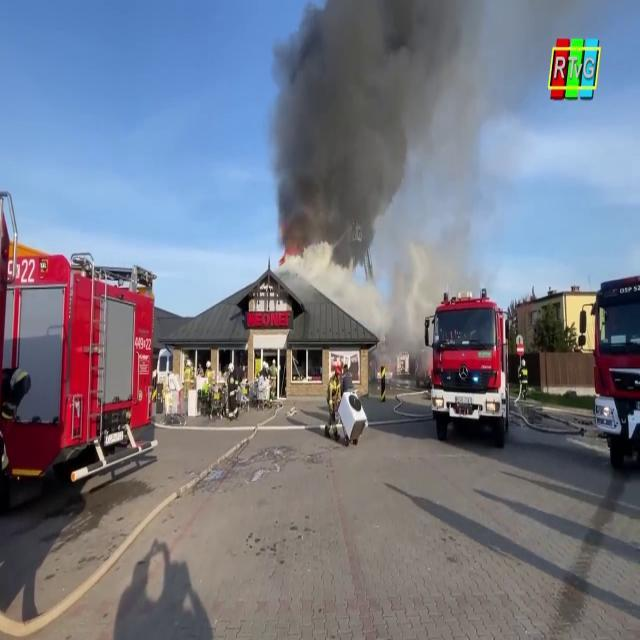Smoke: (264, 0, 476, 326)
